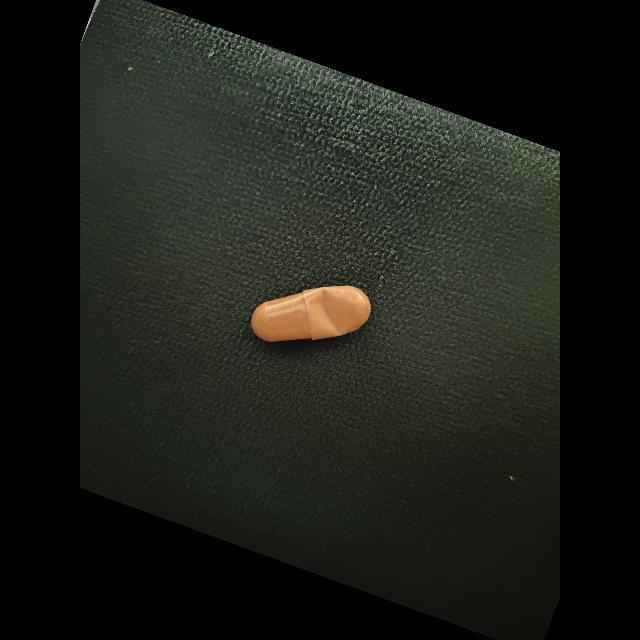Defective Capsule: (306, 287, 354, 336)
